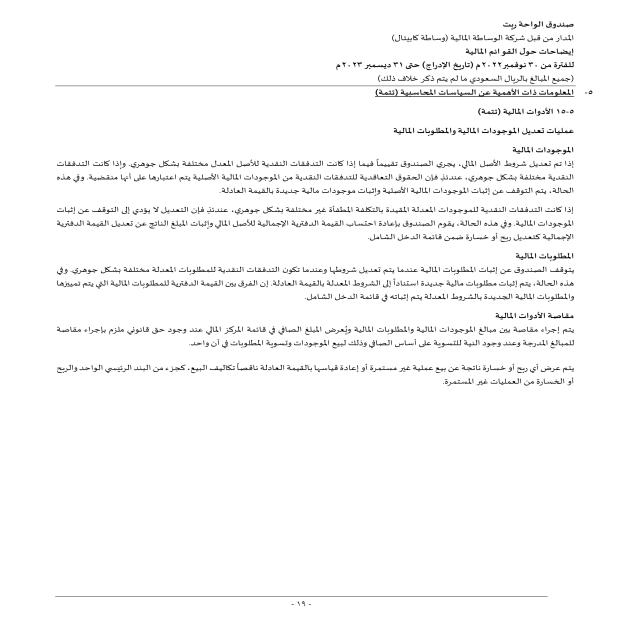notes: (451, 44, 580, 58)
text: (21, 118, 585, 420)
